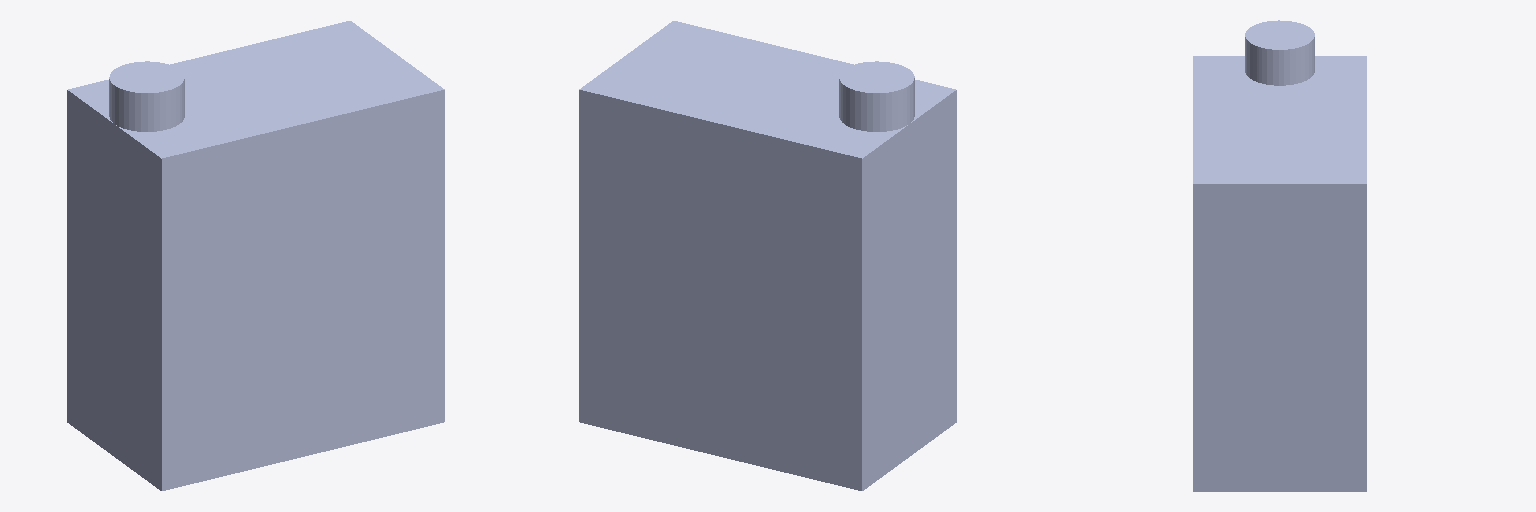
robot.urdf — car:
<?xml version="1.0" encoding="utf-8"?>
<!-- This URDF was automatically created by SolidWorks to URDF Exporter! Originally created by [author] ([email redacted]) 
     Commit Version: 1.6.0-1-g15f4949  Build Version: 1.6.7594.29634
     For more information, please see http://wiki.ros.org/sw_urdf_exporter -->
<robot
  name="car">
  <link name="base_footprint"/>

  <joint name="base_joint" type="fixed">
    <parent link="base_footprint"/>
    <child link="base_link"/>
    <origin xyz="0.0 0.0 0.182" rpy="0 0 0"/>
  </joint>

  <link
    name="base_link">
    <inertial>
      <origin
        xyz="2.38901441624532E-17 2.14021585013175E-17 -0.036"
        rpy="0 0 0" />
      <mass
        value="11.388" />
      <inertia
        ixx="0.102268036"
        ixy="1.89293488291516E-18"
        ixz="8.58528296672866E-34"
        iyy="0.145067936"
        iyz="-3.49175503326175E-18"
        izz="0.0855049" />
    </inertial>
    <visual>
      <origin
        xyz="0 0 0"
        rpy="0 0 0" />
      <geometry>
        <mesh
          filename="package://car/meshes/base_link.STL" />
      </geometry>
      <material
        name="">
        <color
          rgba="0.792156862745098 0.819607843137255 0.933333333333333 1" />
      </material>
    </visual>
    <collision>
      <origin
        xyz="0 0 0"
        rpy="0 0 0" />
      <geometry>
        <mesh
          filename="package://car/meshes/base_link.STL" />
      </geometry>
    </collision>
  </link>
  <link
    name="lidar_link">
    <inertial>
      <origin
        xyz="-1.3878E-17 1.023E-18 0.017"
        rpy="0 0 0" />
      <mass
        value="0.096133" />
      <inertia
        ixx="3.0891E-05"
        ixy="8.3997E-22"
        ixz="1.44E-21"
        iyy="3.0891E-05"
        iyz="-4.7999E-22"
        izz="4.326E-05" />
    </inertial>
    <visual>
      <origin
        xyz="0 0 0"
        rpy="0 0 0" />
      <geometry>
        <mesh
          filename="package://car/meshes/lidar_link.STL" />
      </geometry>
      <material
        name="">
        <color
          rgba="0.79216 0.81961 0.93333 1" />
      </material>
    </visual>
    <collision>
      <origin
        xyz="0 0 0"
        rpy="0 0 0" />
      <geometry>
        <mesh
          filename="package://car/meshes/lidar_link.STL" />
      </geometry>
    </collision>
  </link>
  <joint
    name="lidar_joint"
    type="continuous">
    <origin
      xyz="-0.1 0 0.11"
      rpy="0 0 0" />
    <parent
      link="base_link" />
    <child
      link="lidar_link" />
    <axis
      xyz="0 0 1" />
  </joint>
</robot>

--- Render facts (derived) ---
Views: 3 orthographic renders of the robot side by side, from view 1: azimuth 30°, elevation 25°; view 2: azimuth 150°, elevation 25°; view 3: azimuth 270°, elevation 25°.
Model car with 3 links and 2 joints (1 continuous, 1 fixed), rooted at base_footprint, posed every joint at zero.
Visible links, largest first — view 1: base_link, lidar_link; view 2: base_link, lidar_link; view 3: base_link, lidar_link.
Boxes of the visible links, left/top/right/bottom form: base_link: left=67, top=21, right=444, bottom=490; lidar_link: left=109, top=61, right=184, bottom=131; base_link: left=579, top=21, right=956, bottom=490; lidar_link: left=839, top=61, right=914, bottom=131; base_link: left=1193, top=56, right=1366, bottom=491; lidar_link: left=1245, top=20, right=1314, bottom=85.
Size in the robot's own frame: 0.26 by 0.15 by 0.326 metres.
Meshes: 2 distinct files referenced, 2 mesh visuals loaded (2 binary STL).